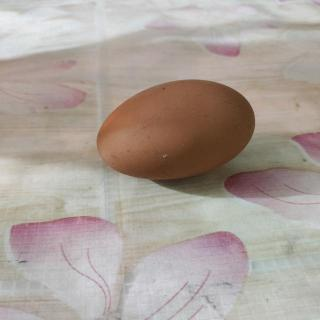Telur: (94, 78, 260, 183)
